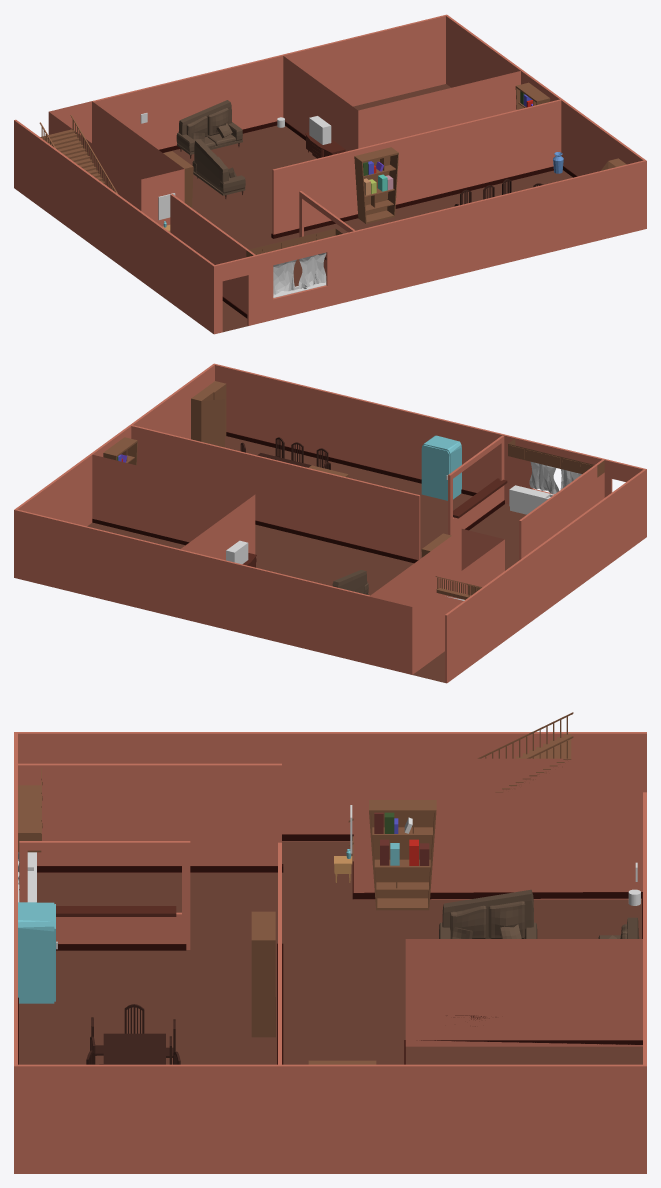
Rendered from nivel1.fbx.
3 views of the same model, one above another, from view 1: azimuth 30°, elevation 25°; view 2: azimuth 150°, elevation 25°; view 3: azimuth 270°, elevation 25° (orthographic). The views are drawn at different scales.
Parts seen in each view (by area): view 1: Cube.011, Plane.001, Cube.059, Cube.015, Cube.062, Cube.042, Cube.035, Plane.004, Cube.009, Cube.016, Cube.147, Cube.118 (+1 smaller); view 2: Cube.011, Plane.001, Cube.062, Cube.020, Cube.018, Cube.009, Plane.004, Cube.010, Cube.016, Cube.021, Cube.042, Cube.035; view 3: Cube.011, Plane.001, Cube.062, Cube.147, Cube.042, Cube.020, Cube.059, Cube.012, Cube.009, Cube.035, Cube.021.
Boxes of the visible parts, box(x1,y1,x2,y2) form: Cube.011: box(14, 14, 646, 334); Plane.001: box(163, 84, 572, 332); Cube.059: box(354, 147, 398, 223); Cube.015: box(176, 100, 242, 158); Cube.062: box(159, 121, 577, 318); Cube.042: box(192, 139, 245, 198); Cube.035: box(40, 120, 114, 191); Plane.004: box(273, 252, 326, 295); Cube.009: box(246, 228, 342, 257); Cube.016: box(515, 82, 550, 109); Cube.147: box(163, 151, 193, 207); Cube.118: box(305, 132, 345, 158); Cube.011: box(14, 363, 646, 683); Plane.001: box(87, 436, 526, 682); Cube.062: box(92, 432, 504, 563); Cube.020: box(421, 435, 461, 500); Cube.018: box(191, 381, 226, 447); Cube.009: box(508, 439, 604, 477); Plane.004: box(529, 461, 581, 493); Cube.010: box(509, 485, 553, 514); Cube.016: box(103, 437, 137, 465); Cube.021: box(453, 478, 507, 518); Cube.042: box(332, 570, 368, 594); Cube.035: box(436, 577, 481, 599); Cube.011: box(14, 732, 646, 1173); Plane.001: box(19, 841, 642, 1064); Cube.062: box(18, 834, 642, 1064); Cube.147: box(369, 800, 436, 910); Cube.042: box(439, 889, 537, 938); Cube.020: box(18, 902, 55, 1003); Cube.059: box(251, 911, 275, 1037); Cube.012: box(103, 1033, 165, 1064); Cube.009: box(18, 767, 42, 852); Cube.035: box(352, 716, 571, 861); Cube.021: box(56, 906, 176, 916).
Bounding box in the file's own units: 2000 × 362 × 1600.
